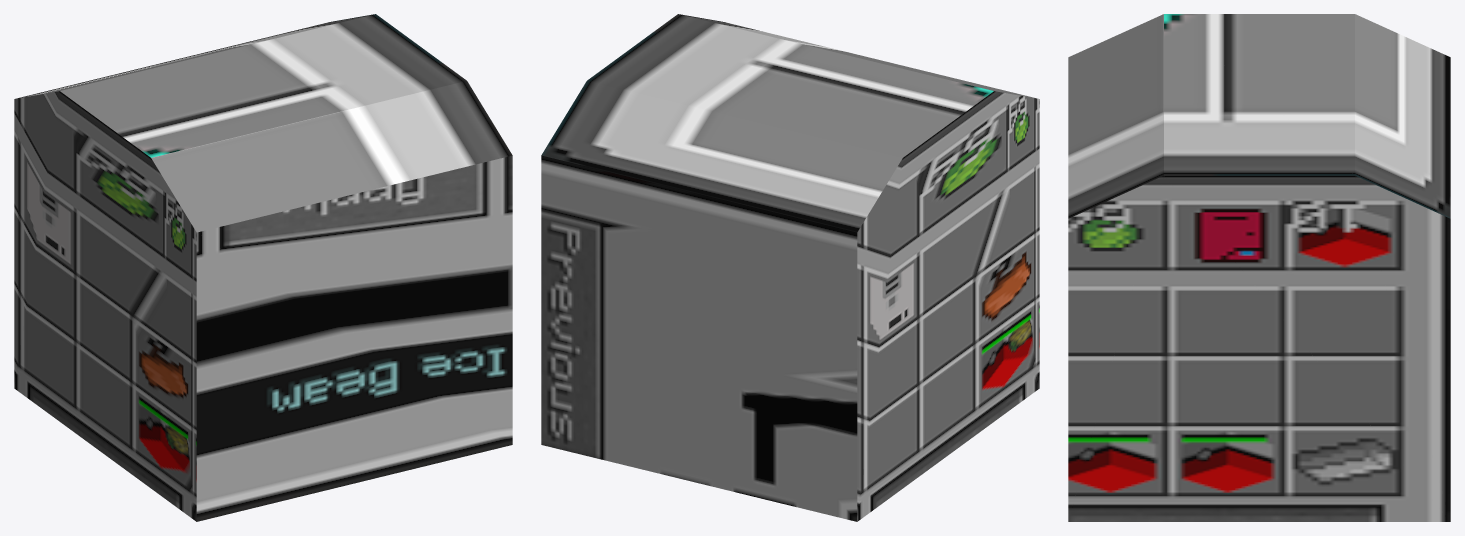
The model's file is tmc.obj.
3 views of the same model, side by side, from view 1: azimuth 30°, elevation 25°; view 2: azimuth 150°, elevation 25°; view 3: azimuth 270°, elevation 25° (orthographic). The views are drawn at different scales.
Parts seen in each view (by area): view 1: cube; view 2: cube; view 3: cube.
Boxes of the visible parts, left/top/right/bottom form: cube: left=14, top=14, right=512, bottom=521; cube: left=541, top=14, right=1039, bottom=521; cube: left=1068, top=14, right=1450, bottom=521.
Size of the model in its own units: 1 by 1 by 1.
